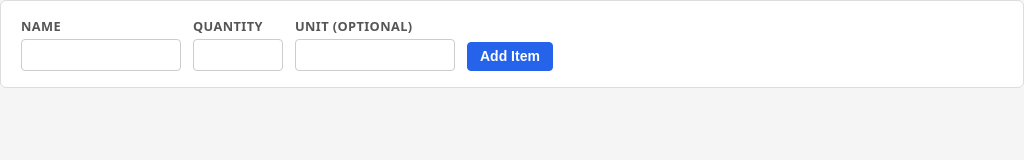
Test case: AddItemForm validation › blocks submission when quantity is negative
Type "Tea" into the field labelled "Name" at (101, 55), box [21,39,181,71]
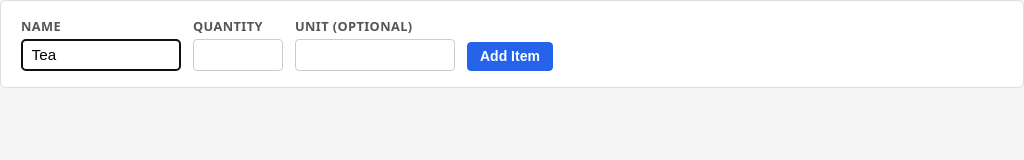
Type "-1" into the number field labelled "Quantity" at (238, 55), box [193,39,283,71]
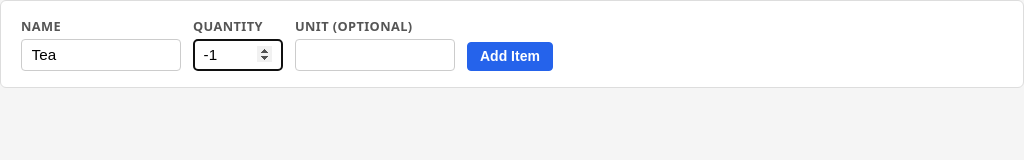
Click the button "Add Item" at (510, 56), box [467,42,553,71]
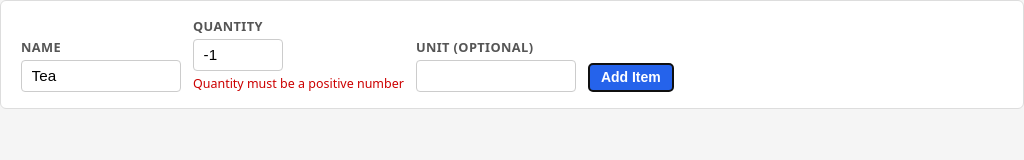
expect the text "Quantity must be a positive number" is shown: met, box [193,75,404,92]
